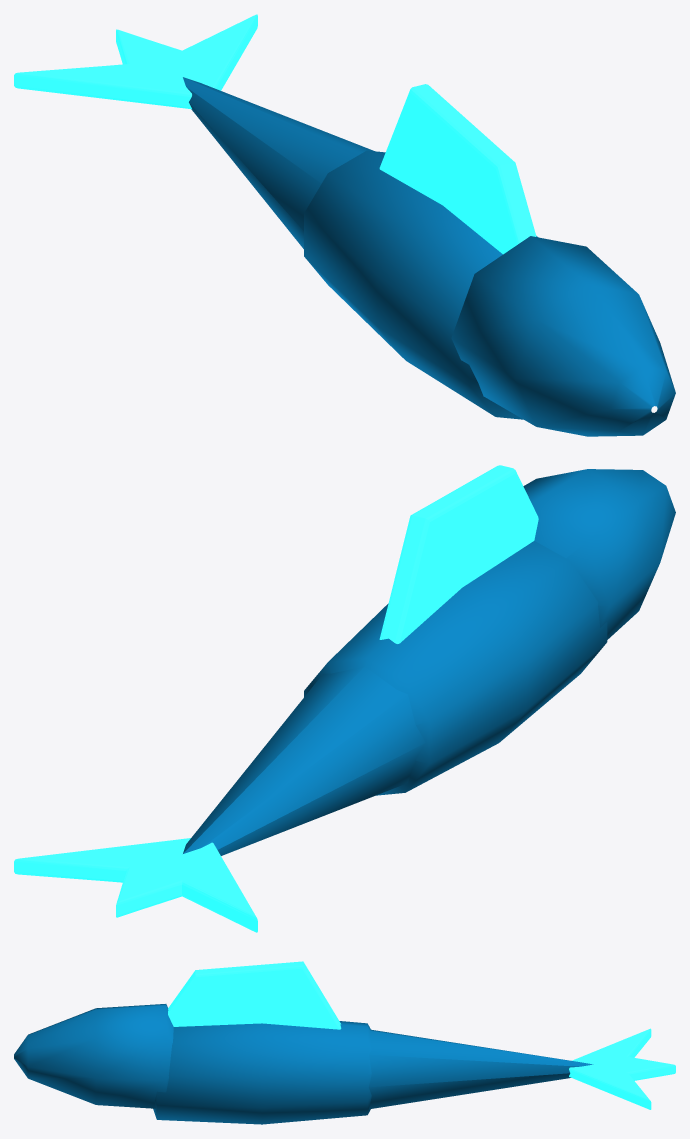
Rendered from pet_leviathan.glb.
3 renders of one model, top to bottom at view 1: azimuth 30°, elevation 25°; view 2: azimuth 150°, elevation 25°; view 3: azimuth 270°, elevation 25°, orthographic. The views are drawn at different scales.
Visible parts, largest first — view 1: LeviathanHead, LeviathanBody, LeviathanFin, LeviathanTail, LeviathanFluke; view 2: LeviathanBody, LeviathanTail, LeviathanHead, LeviathanFin, LeviathanFluke; view 3: LeviathanBody, LeviathanHead, LeviathanTail, LeviathanFin, LeviathanFluke.
Part boxes in pixels (x1=…): LeviathanHead: x1=451, y1=236, x2=675, y2=436; LeviathanBody: x1=304, y1=150, x2=537, y2=419; LeviathanFin: x1=379, y1=84, x2=536, y2=254; LeviathanTail: x1=183, y1=77, x2=374, y2=248; LeviathanFluke: x1=14, y1=14, x2=257, y2=109; LeviathanBody: x1=304, y1=541, x2=607, y2=795; LeviathanTail: x1=183, y1=666, x2=425, y2=855; LeviathanHead: x1=523, y1=469, x2=675, y2=639; LeviathanFin: x1=379, y1=465, x2=538, y2=643; LeviathanFluke: x1=14, y1=838, x2=257, y2=932; LeviathanBody: x1=153, y1=1021, x2=371, y2=1124; LeviathanHead: x1=14, y1=1004, x2=173, y2=1108; LeviathanTail: x1=368, y1=1029, x2=593, y2=1109; LeviathanFin: x1=168, y1=961, x2=341, y2=1029; LeviathanFluke: x1=569, y1=1028, x2=675, y2=1109.
Bounding box in the file's own units: 0.739 × 0.7388 × 2.83.
